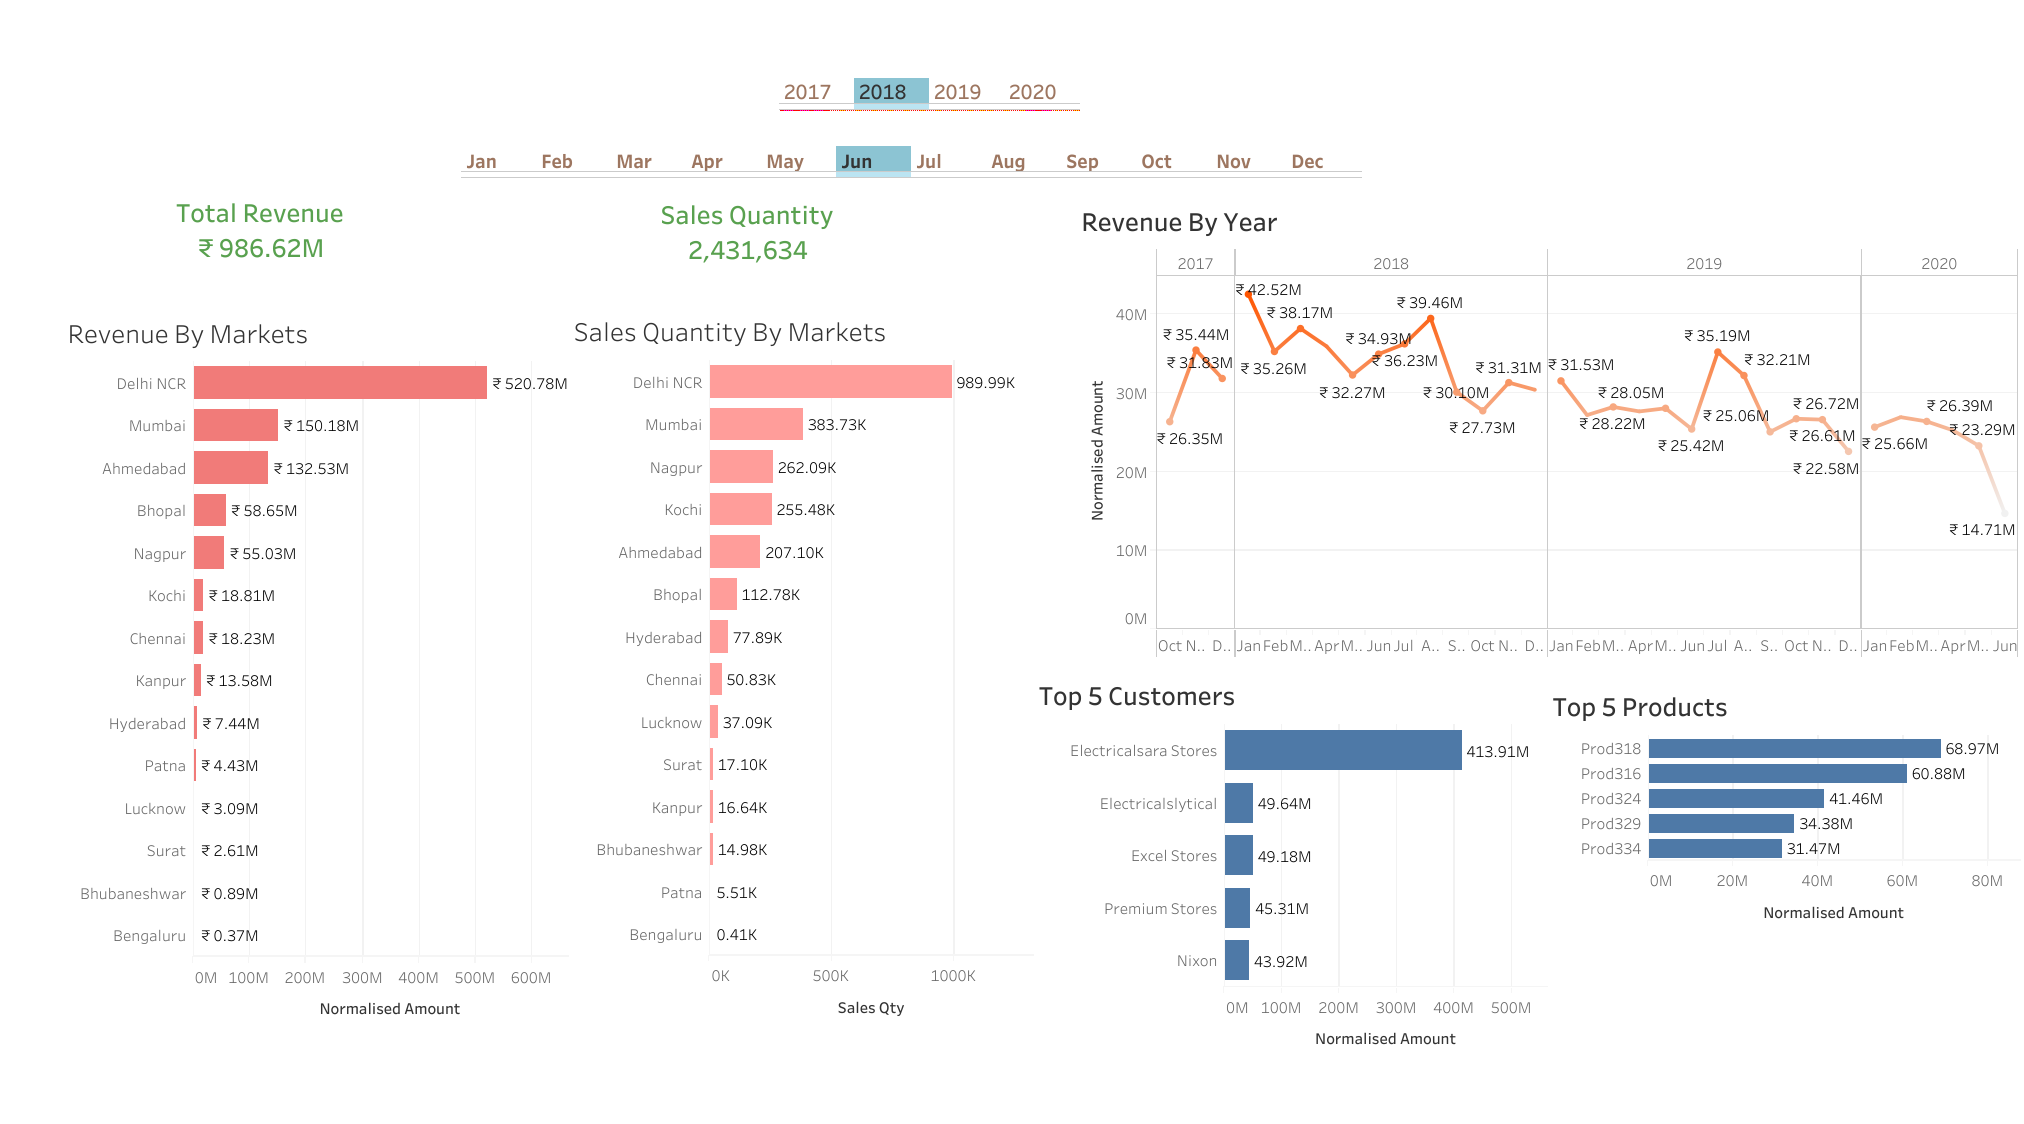

The page's visual inventory and layout, read from the dashboard file:
{"tool":"tableau","page":{"name":"Dashboard 1","canvas":[1620,900],"ordinal":0},"visuals":[{"type":"worksheet","title":"Year","mark":"Automatic","cols":["cy_date"],"box":[623.2,47,278.6,71]},{"type":"worksheet","title":"Month","mark":"Automatic","cols":["cy_date"],"box":[369.4,102,811.1,77]},{"type":"worksheet","title":"Revenue","mark":"Automatic","box":[128.5,140,211.7,92]},{"type":"worksheet","title":"Quantity","mark":"Automatic","box":[518,142,253,101]},{"type":"worksheet","title":"Revenue By Year","mark":"Automatic","rows":["Calculation_1437492757725945856"],"cols":["cy_date","cy_date"],"box":[861,157,754,369]},{"type":"worksheet","title":"Sales Quantity By Markets","mark":"Automatic","rows":["markets_name"],"cols":["sales_qty"],"box":[455,245,372,582]},{"type":"worksheet","title":"Revenue By Markets","mark":"Automatic","rows":["markets_name"],"cols":["Calculation_1437492757725945856"],"box":[50,246,435,597]},{"type":"worksheet","title":"Top 5 Customers","mark":"Automatic","rows":["custmer_name"],"cols":["Calculation_1437492757725945856"],"box":[827,536,411,325]},{"type":"worksheet","title":"Top 5 Products","mark":"Automatic","rows":["product_code"],"cols":["Calculation_1437492757725945856"],"box":[1238,545,378,221]}]}

Visuals, with their boxes in screenshot pixels (x1, y1, x2, y2), scaled from the page's 1620x900 canvas onto the 2024x1124 screenshot:
"Year" worksheet: pyautogui.locateOnScreen(779, 59, 1127, 147)
"Month" worksheet: pyautogui.locateOnScreen(462, 127, 1475, 224)
"Revenue" worksheet: pyautogui.locateOnScreen(161, 175, 425, 290)
"Quantity" worksheet: pyautogui.locateOnScreen(647, 177, 963, 303)
"Revenue By Year" worksheet: pyautogui.locateOnScreen(1076, 196, 2018, 657)
"Sales Quantity By Markets" worksheet: pyautogui.locateOnScreen(568, 306, 1033, 1033)
"Revenue By Markets" worksheet: pyautogui.locateOnScreen(62, 307, 606, 1053)
"Top 5 Customers" worksheet: pyautogui.locateOnScreen(1033, 669, 1547, 1075)
"Top 5 Products" worksheet: pyautogui.locateOnScreen(1547, 681, 2019, 957)
